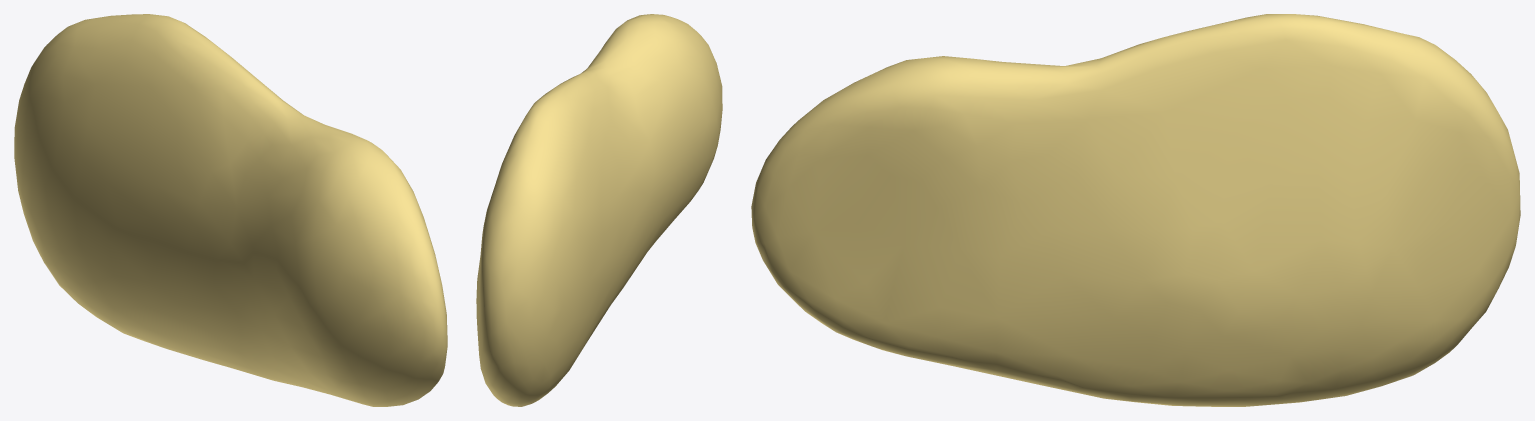
Rendered from fma73002_mm2838m.glb.
3 views of the same model, side by side, from view 1: azimuth 30°, elevation 25°; view 2: azimuth 150°, elevation 25°; view 3: azimuth 270°, elevation 25° (orthographic). The views are drawn at different scales.
Visible parts, largest first — view 1: FMA73002_MM2838M; view 2: FMA73002_MM2838M; view 3: FMA73002_MM2838M.
Boxes of the visible parts, left/top/right/bottom form: FMA73002_MM2838M: left=14, top=14, right=447, bottom=406; FMA73002_MM2838M: left=476, top=14, right=722, bottom=406; FMA73002_MM2838M: left=751, top=14, right=1520, bottom=406.
Bounding box in the file's own units: 0.00376 × 0.00751 × 0.0138.
